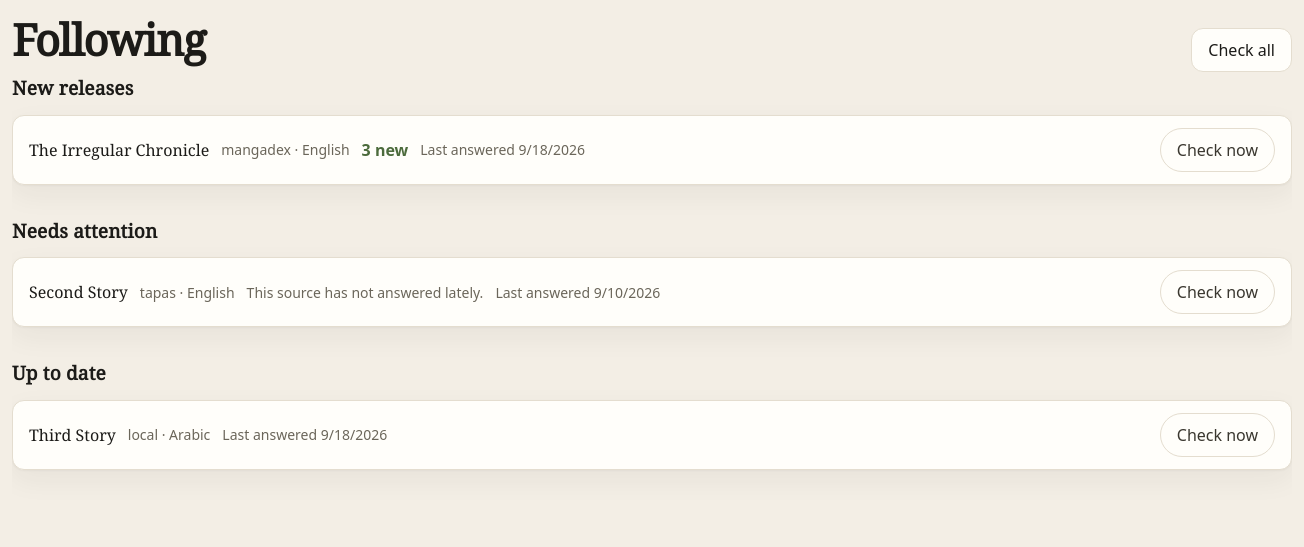
Test: Following › reports a failed check without removing the followed rows
Expected: the element "New releases" is shown, [12,74,1292,185]
Click the button "Check all".
click(1242, 50)  # box [1191,28,1292,72]
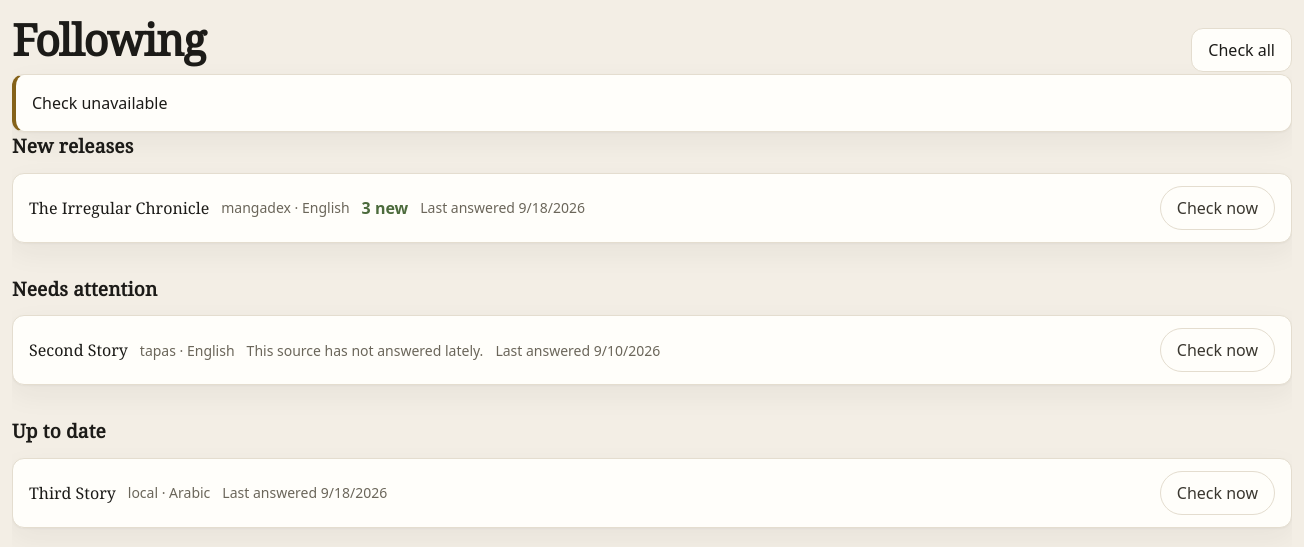
Expected: the link "The Irregular Chronicle" is shown, [29,196,209,220]
Expected: the message reads "Check unavailable", [32,92,168,114]
